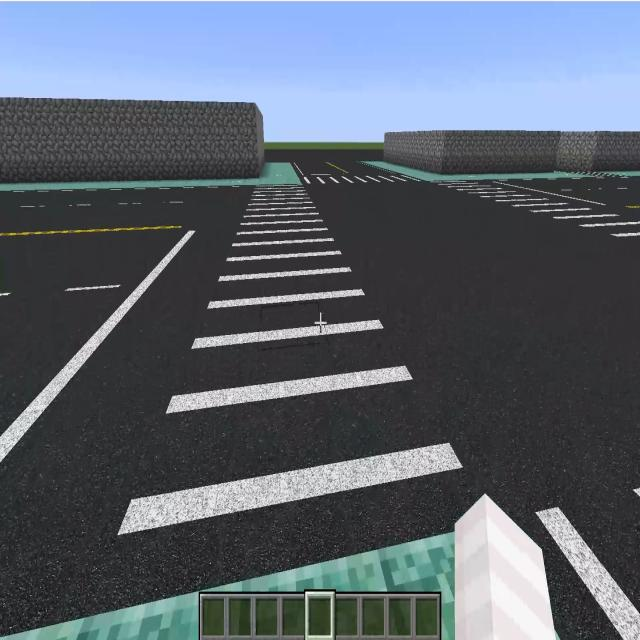crosswalk: (95, 185, 485, 596), (449, 177, 640, 258), (302, 167, 414, 188)
road: (3, 189, 252, 618), (317, 182, 634, 505), (271, 151, 384, 178)
sidewalk: (205, 532, 455, 639), (0, 592, 197, 639), (0, 163, 300, 193), (361, 161, 588, 180), (614, 171, 640, 176)
